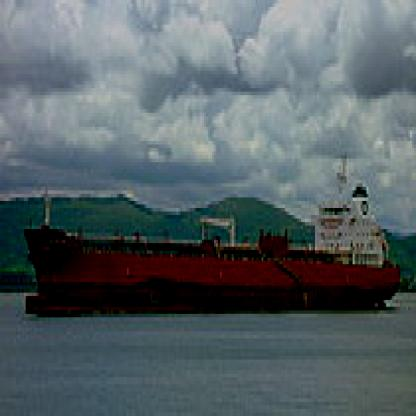Tanker: (24, 145, 390, 317)
